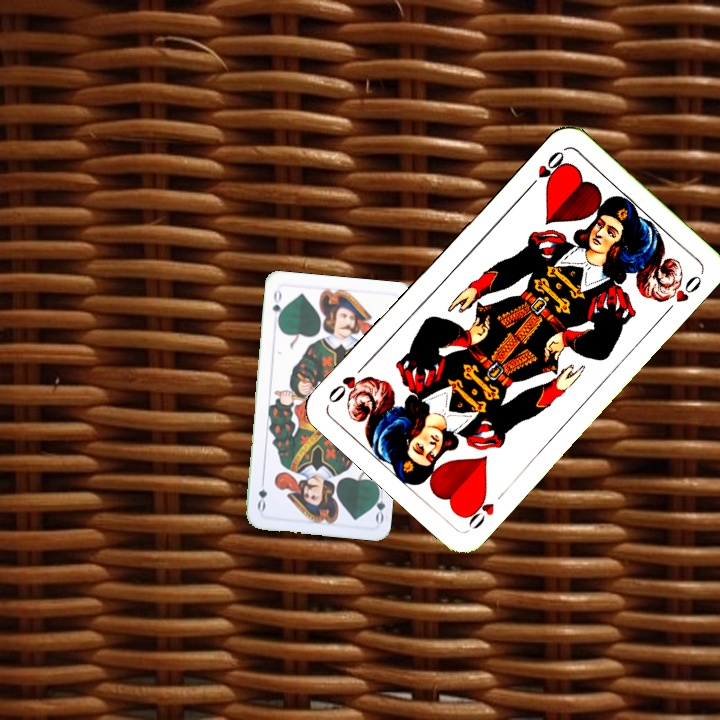GO: (368, 484, 388, 525), (268, 286, 285, 326)
HO: (459, 486, 510, 532), (522, 147, 567, 194)
